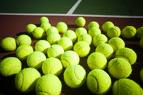tennis ball: (14, 67, 41, 93), (33, 74, 63, 94), (63, 63, 87, 87), (110, 77, 143, 94), (108, 56, 132, 79), (87, 49, 109, 72), (1, 56, 24, 78), (42, 56, 63, 77), (114, 47, 138, 64), (26, 51, 47, 70), (94, 42, 115, 60), (14, 43, 34, 61), (60, 49, 80, 65), (107, 36, 126, 52), (46, 44, 65, 59), (1, 36, 18, 52), (62, 29, 78, 43), (91, 33, 107, 47), (15, 33, 32, 46), (123, 24, 137, 39), (35, 40, 51, 53), (101, 20, 116, 33), (106, 25, 121, 38), (45, 25, 59, 37), (86, 21, 101, 32), (56, 21, 68, 33), (33, 27, 45, 38), (75, 16, 86, 27), (25, 22, 36, 33), (75, 28, 88, 37), (39, 16, 49, 24)
